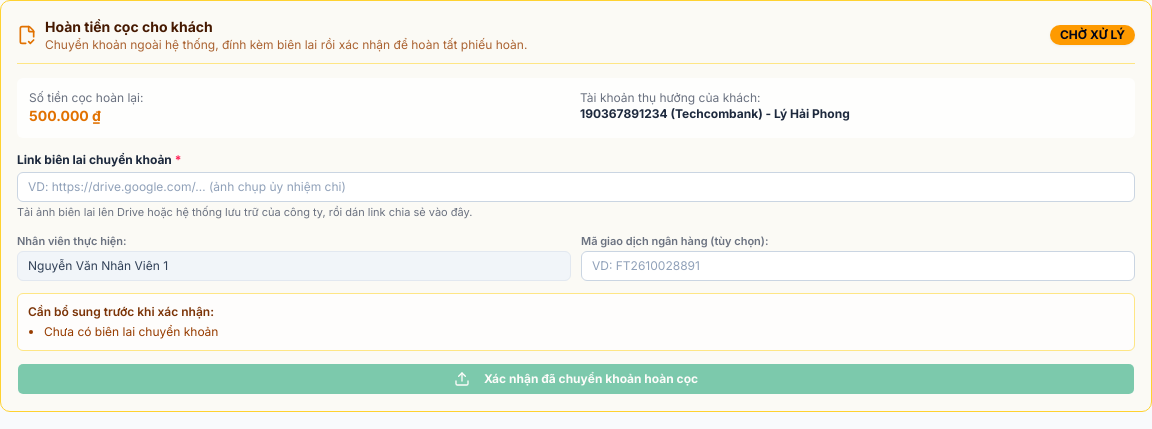
Scenario: RefundConfirmForm khi chạy thật: biên lai là link (BE chỉ lưu 255 ký tự) › BE báo lỗi → hiện lỗi, không báo thành công
The width and height of the screenshot is (1152, 429).
Type "https://drive.google.com/file/d/1AbC/view" into the field labelled "Link biên lai chuyển khoản *". click: (576, 187)
box: [17,172,1135,202]
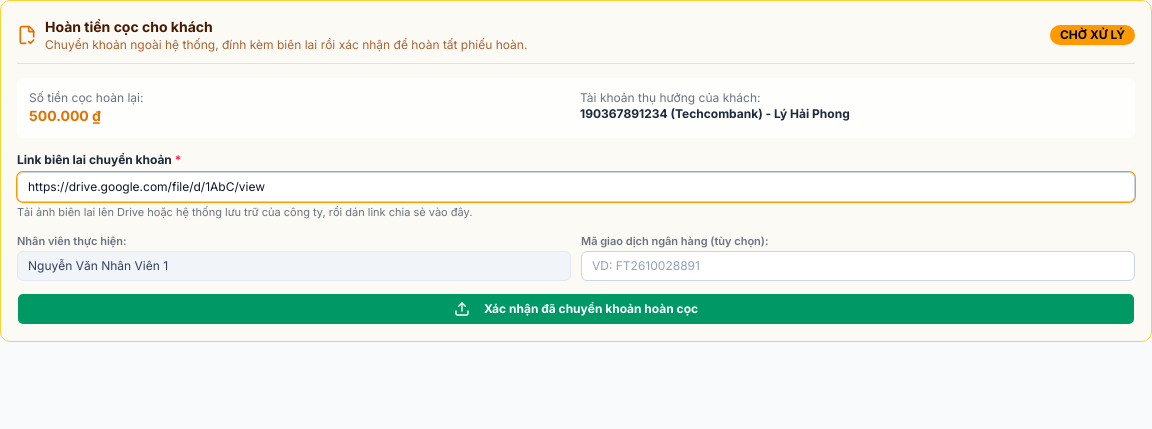
Click the button "Xác nhận đã chuyển khoản hoàn cọc". click: (576, 309)
box: [17,293,1135,325]
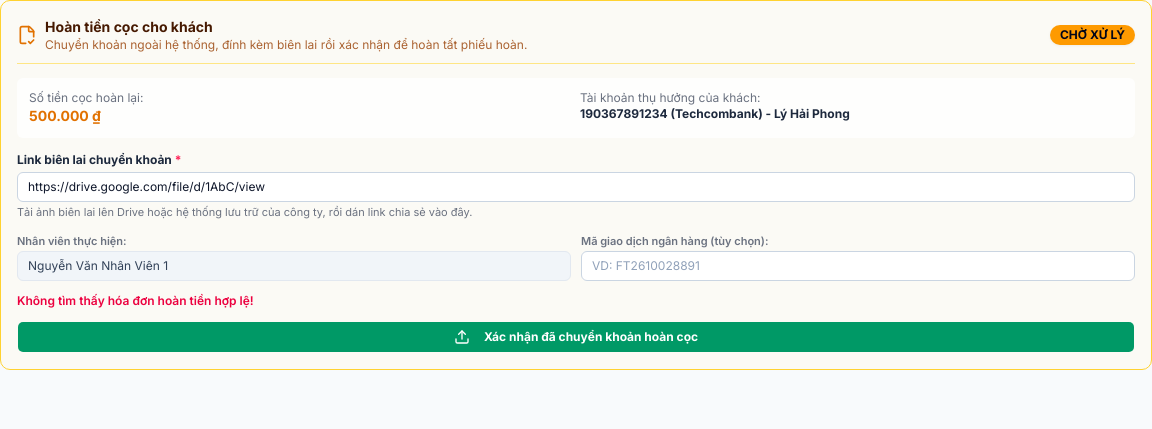
Now the message shows "Không tìm thấy hóa đơn hoàn tiền", box [17,293,254,308]
